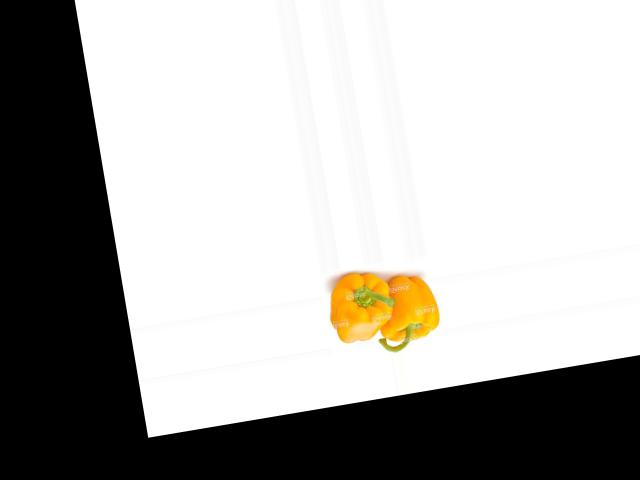bell_pepper: (365, 269, 445, 352)
